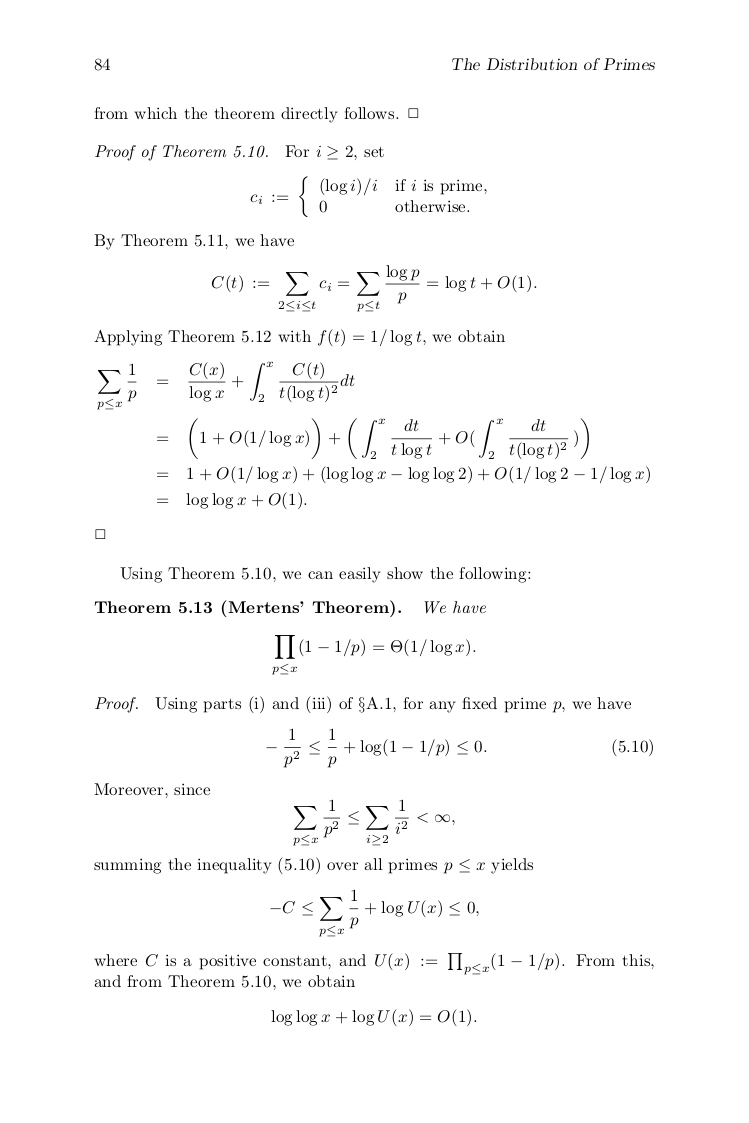formula: (157, 417, 588, 460), (266, 727, 652, 768), (211, 264, 536, 312), (97, 360, 354, 410), (270, 888, 478, 937), (250, 175, 486, 217), (157, 465, 649, 484), (272, 635, 475, 674), (293, 798, 454, 846), (271, 1008, 476, 1027), (157, 491, 306, 510)
